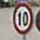limite 10: (12, 1, 32, 35)
